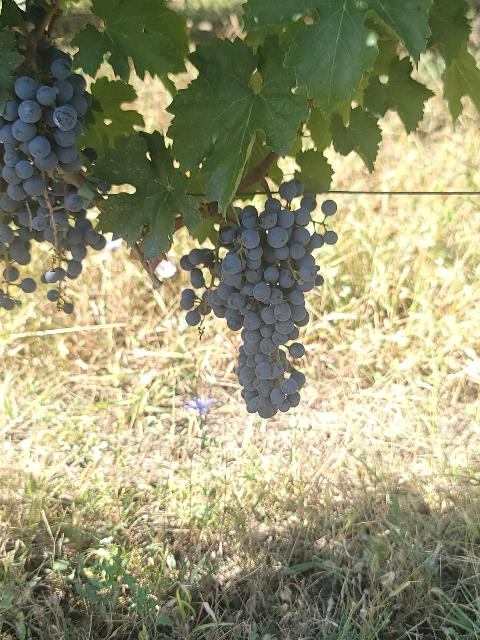grapes: (180, 180, 338, 419), (0, 60, 106, 314)
